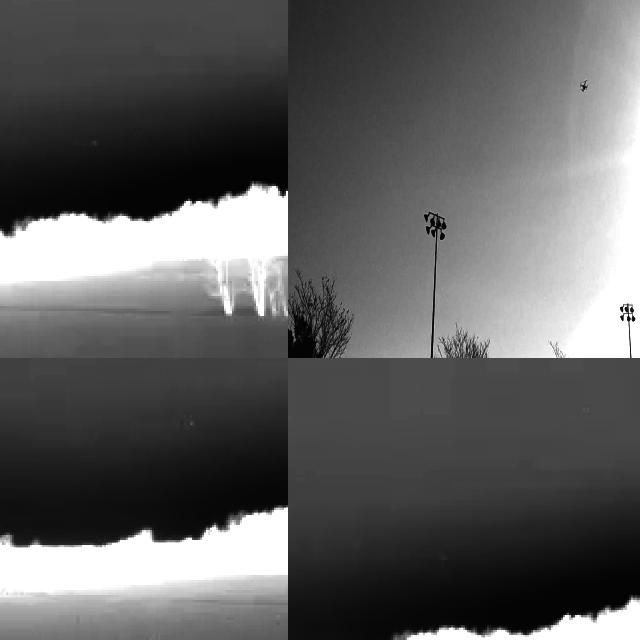0: (78, 129, 108, 161), (427, 543, 457, 575), (177, 408, 203, 444)
drone: (578, 73, 592, 94)
